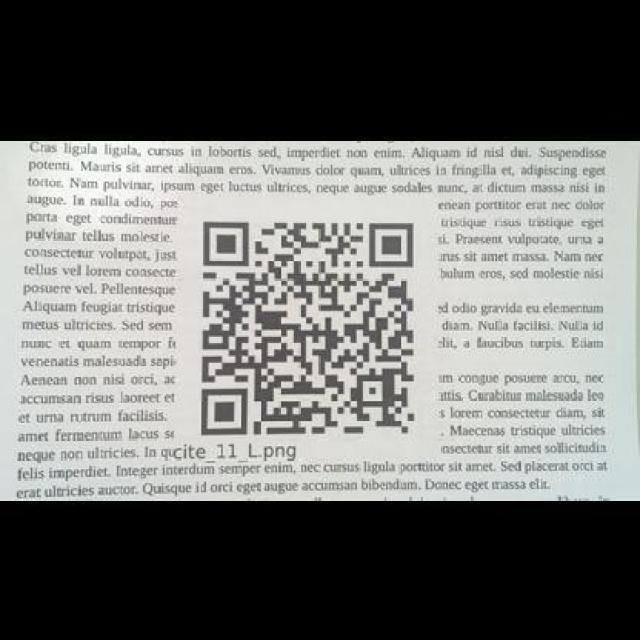QRCode: (196, 211, 423, 441)
